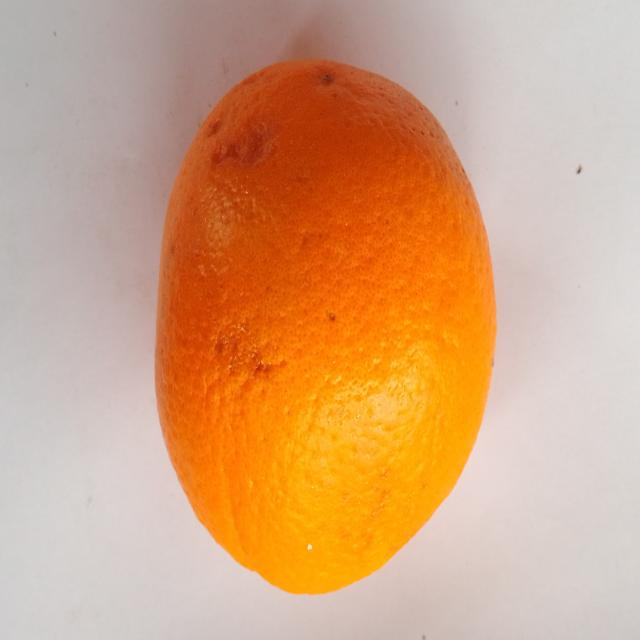orange: (157, 61, 495, 593)
